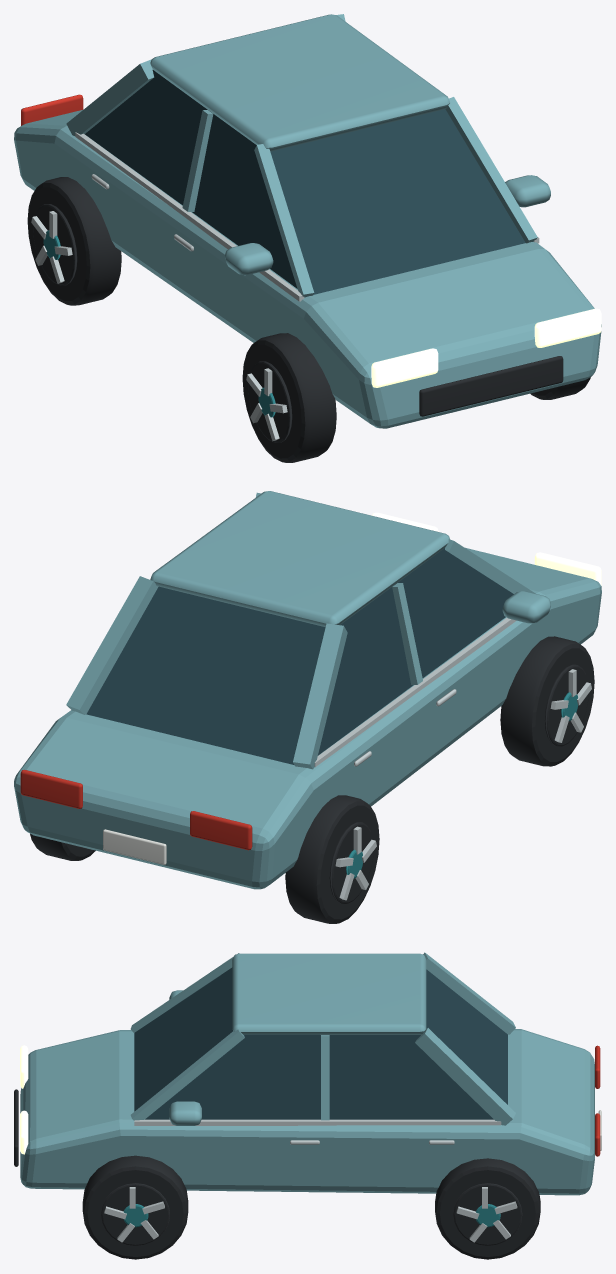
The model's file is city-car.glb.
The picture shows the model from 3 angles, top to bottom: view 1: azimuth 30°, elevation 25°; view 2: azimuth 150°, elevation 25°; view 3: azimuth 270°, elevation 25°; orthographic projection. The views are drawn at different scales.
Visible parts, largest first — view 1: TrafficCar; view 2: TrafficCar; view 3: TrafficCar.
Boxes of the visible parts, x1,y1,x2,y2 form: TrafficCar: (14, 14, 601, 462); TrafficCar: (14, 491, 601, 923); TrafficCar: (14, 952, 601, 1259).
Size of the model in its own units: 2.19 by 1.75 by 4.34.
